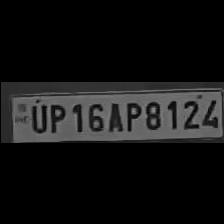1: (66, 100, 84, 132), (163, 96, 179, 130)
2: (179, 96, 199, 130)
4: (199, 94, 219, 128)
6: (84, 98, 104, 132)
8: (142, 97, 162, 130)
A: (104, 98, 124, 132)
P: (45, 100, 65, 134), (122, 97, 140, 131)
U: (26, 100, 46, 132)
